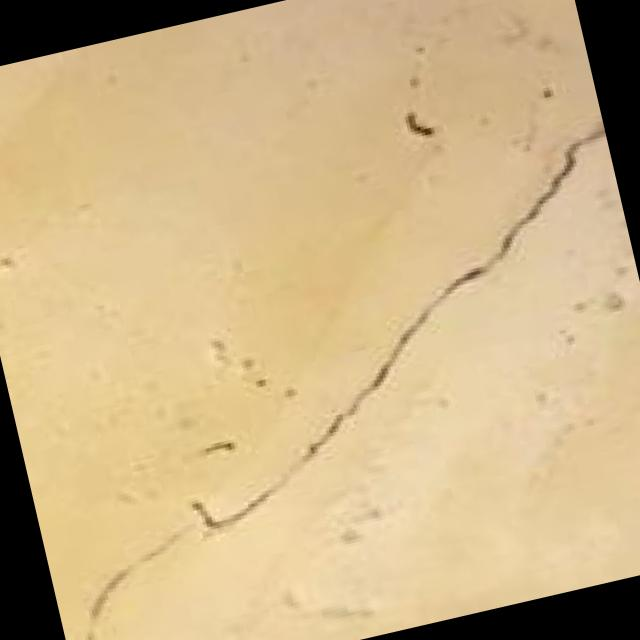crack: (127, 85, 640, 640)
